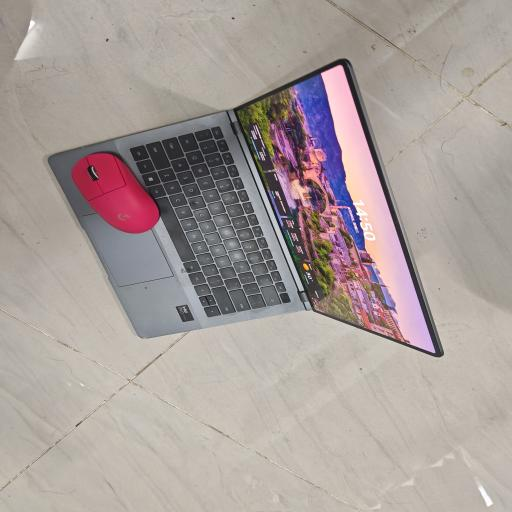laptop: (48, 60, 442, 356)
mouse: (72, 153, 159, 233)
